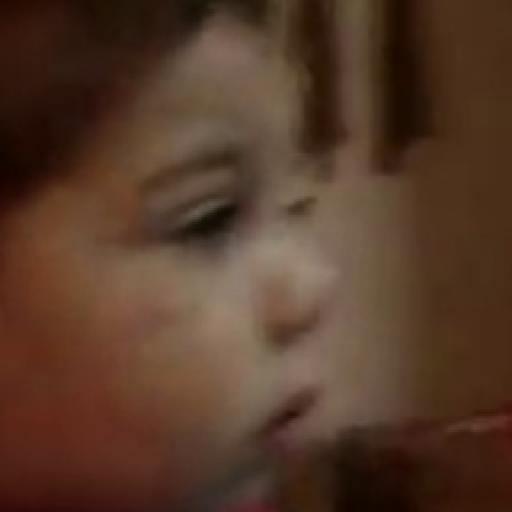Autism: (24, 1, 418, 477)
